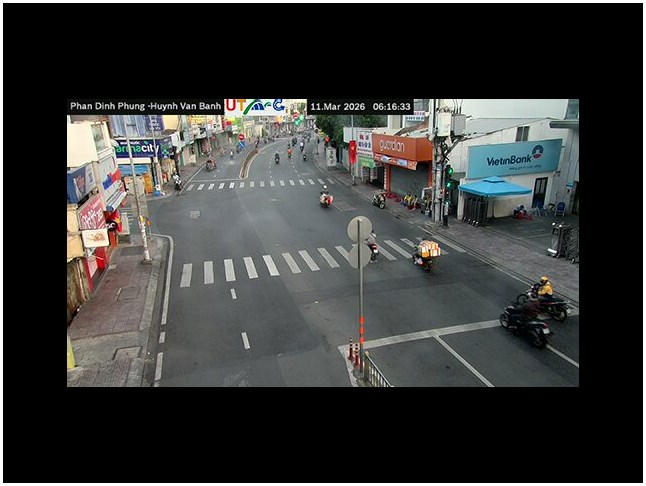motorbike: (500, 305, 552, 348), (319, 190, 333, 208)
